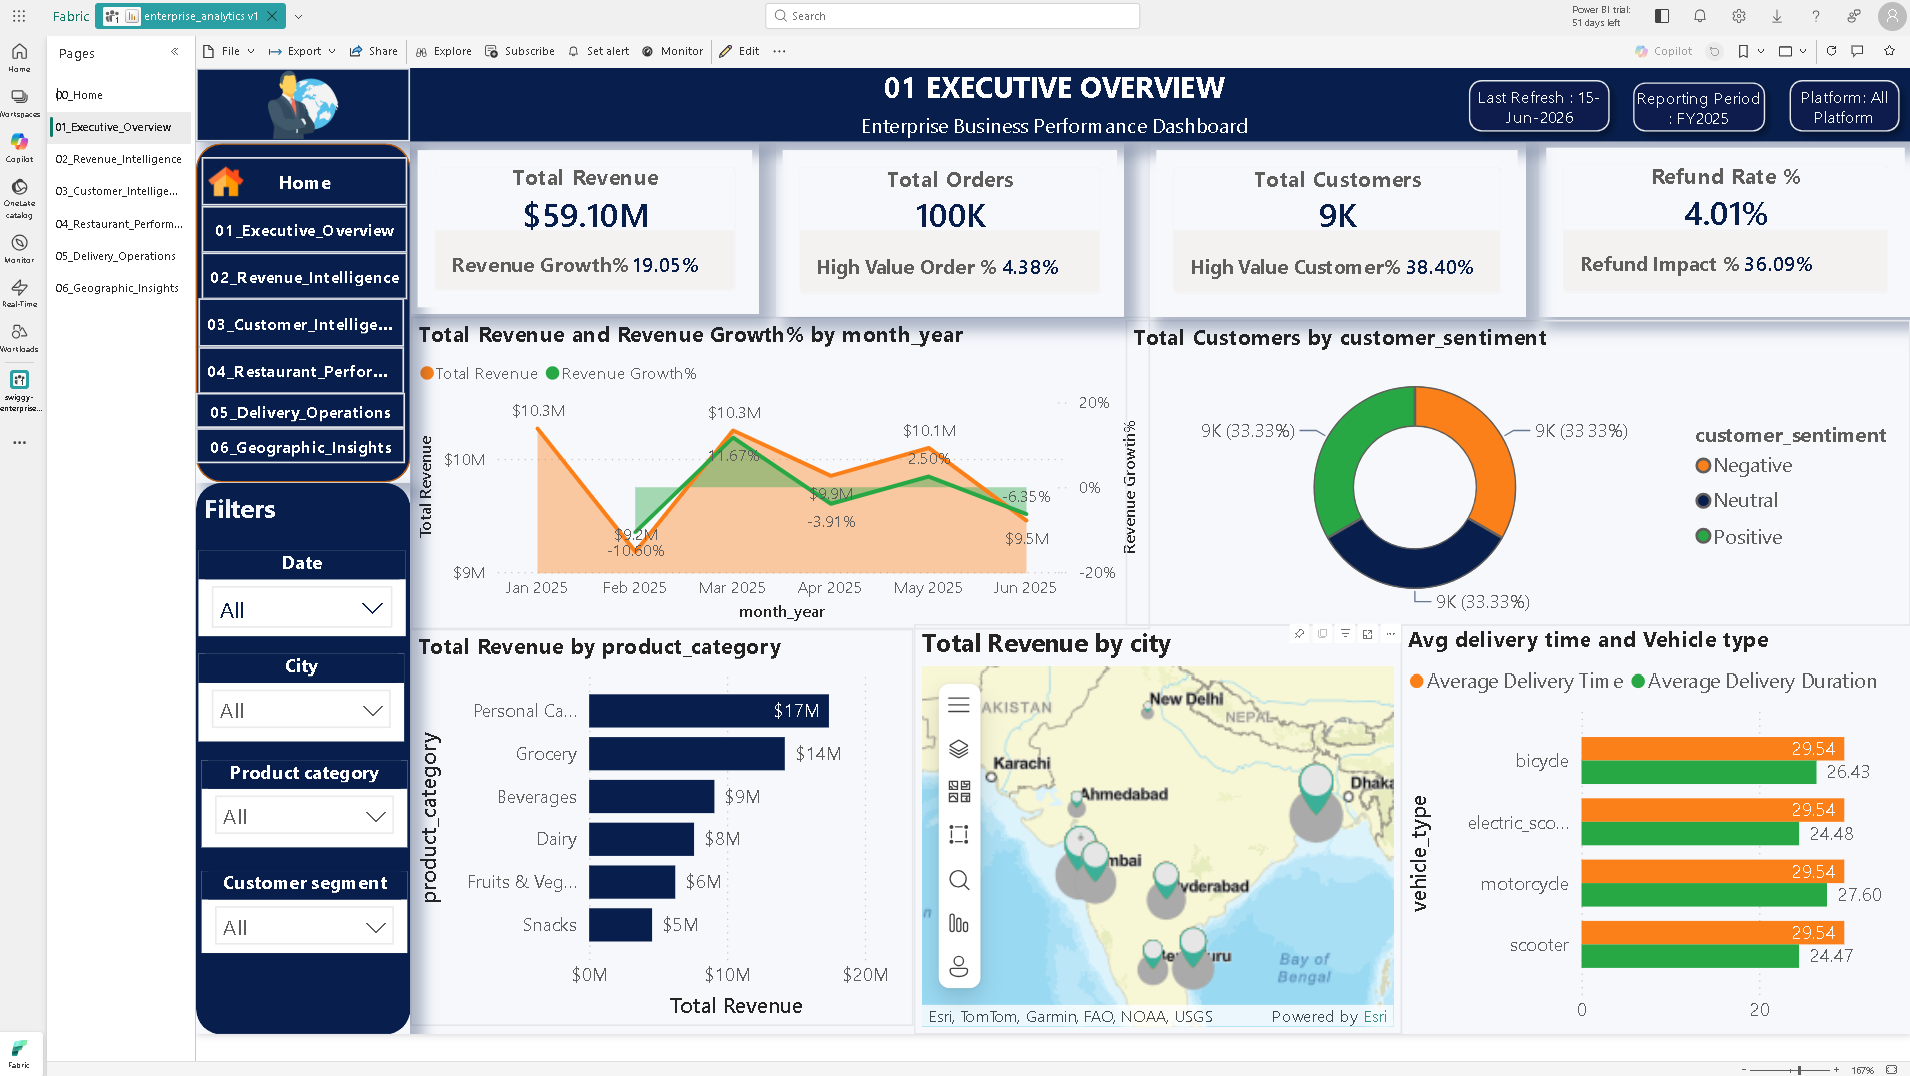

The page's visual inventory and layout, read from the dashboard file:
{"tool":"powerbi","page":{"name":"01_Executive_Overview","canvas":[1280,720],"ordinal":1},"visuals":[{"type":"shape","title":"01 EXECUTIVE OVERVIEW","box":[0,0,1279.5,54.5],"z":0},{"type":"shape","box":[939.7,0,123.6,56.3],"z":1000},{"type":"shape","box":[1063.3,1.8,116.3,54.5],"z":2000},{"type":"shape","box":[1179.6,0,100,56.3],"z":3000},{"type":"lineChart","fields":{"Category":["dim_date.month_year"],"Y":["Measure_Table.Total Revenue"],"Y2":["Measure_Table.Revenue Growth%"]},"box":[159.9,185.4,550.7,232.6],"z":4000},{"type":"cardVisual","fields":{"Data":["Measure_Table.Refund Rate %"]},"box":[1001.5,54.5,278.1,130.9],"z":5000},{"type":"donutChart","fields":{"Y":["dim_customers.Total Customers"],"Category":["fact_orders.customer_sentiment"]},"box":[692.9,187.9,585.8,228.3],"z":6000},{"type":"barChart","fields":{"Category":["fact_orders.product_category"],"Y":["Measure_Table.Total Revenue"]},"box":[159.6,418.2,375.7,294.9],"z":7000},{"type":"clusteredBarChart","title":"Avg delivery time and Vehicle type","fields":{"Y":["Measure_Table.Average Delivery Time","fact_deliveries.Average Delivery Duration"],"Category":["fact_deliveries.vehicle_type"]},"box":[898.9,414.1,381.8,305],"z":8000},{"type":"shape","title":"Filters","box":[0,309.2,159.9,410.8],"z":9000},{"type":"slicer","title":"Date","fields":{"Values":["dim_date.month_year","dim_date.weekday_name"]},"box":[1.8,359.9,154.5,63.6],"z":10000},{"type":"slicer","title":"City","fields":{"Values":["dim_restaurants.city"]},"box":[2,436.3,153.5,64.6],"z":11000},{"type":"shape","box":[0,56.3,159.9,252.6],"z":12000},{"type":"actionButton","title":"Home","box":[4,66.6,153.5,36.4],"z":13000},{"type":"actionButton","title":"01_Executive_Overview","box":[4,103,153.5,34.3],"z":14000},{"type":"actionButton","title":"02_Revenue_Intelligence","box":[4,137.3,153.5,34.3],"z":15000},{"type":"actionButton","title":"03_Customer_Intelligence","box":[2,171.7,153.5,36.4],"z":16000},{"type":"actionButton","title":"04_Restaurant_Performance","box":[2,208,153.5,34.3],"z":17000},{"type":"actionButton","title":"05_Delivery_Operations","box":[0,242.4,155.5,26.3],"z":18000},{"type":"slicer","title":"Product category","fields":{"Values":["fact_orders.product_category"]},"box":[4,515.1,153.5,64.6],"z":19000},{"type":"slicer","title":"Customer segment","fields":{"Values":["dim_customers.customer_segment"]},"box":[4,597.9,153.5,60.6],"z":20000},{"type":"cardVisual","fields":{"Data":["dim_customers.Total Customers"]},"box":[710.7,56.3,279.9,129],"z":21000},{"type":"cardVisual","fields":{"Data":["Measure_Table.Total Orders"]},"box":[432.6,56.3,259.9,129],"z":22000},{"type":"cardVisual","fields":{"Data":["Measure_Table.Total Revenue"]},"box":[159.9,56.3,259.9,127.2],"z":23000},{"type":"image","box":[0,0,159.9,54.5],"z":24000},{"type":"actionButton","title":"05_Delivery_Operations","box":[0,268.6,155.5,26.3],"z":25000},{"type":"esriVisual","title":"Total Revenue by city","fields":{"Location":["dim_restaurants.city"],"Size":["Measure_Table.Total Revenue"],"Color":["dim_location.city"]},"box":[535.3,414.1,363.6,305],"z":26000}]}

Visuals, with their boxes on the page's 1280x720 design canvas (x1, y1, x2, y2). These are canvas units, not pixel positions in the 1910x1076 screenshot, which may show the page scaled, cropped or inside an application window:
"01 EXECUTIVE OVERVIEW" shape: 0:0:1280:54
shape: 940:0:1063:56
shape: 1063:2:1180:56
shape: 1180:0:1280:56
lineChart - dim_date.month_year x Measure_Table.Total Revenue: 160:185:711:418
cardVisual - Measure_Table.Refund Rate %: 1002:54:1280:185
donutChart - dim_customers.Total Customers x fact_orders.customer_sentiment: 693:188:1279:416
barChart - fact_orders.product_category x Measure_Table.Total Revenue: 160:418:535:713
"Avg delivery time and Vehicle type" clusteredBarChart: 899:414:1281:719
"Filters" shape: 0:309:160:720
"Date" slicer: 2:360:156:424
"City" slicer: 2:436:156:501
shape: 0:56:160:309
"Home" actionButton: 4:67:158:103
"01_Executive_Overview" actionButton: 4:103:158:137
"02_Revenue_Intelligence" actionButton: 4:137:158:172
"03_Customer_Intelligence" actionButton: 2:172:156:208
"04_Restaurant_Performance" actionButton: 2:208:156:242
"05_Delivery_Operations" actionButton: 0:242:156:269
"Product category" slicer: 4:515:158:580
"Customer segment" slicer: 4:598:158:658
cardVisual - dim_customers.Total Customers: 711:56:991:185
cardVisual - Measure_Table.Total Orders: 433:56:692:185
cardVisual - Measure_Table.Total Revenue: 160:56:420:184
image: 0:0:160:54
"05_Delivery_Operations" actionButton: 0:269:156:295
"Total Revenue by city" esriVisual: 535:414:899:719
